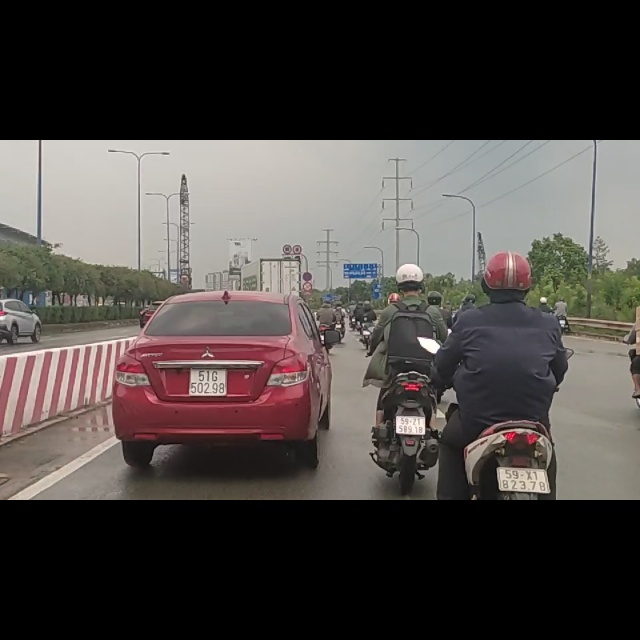bien_cam: (301, 233, 313, 251)
